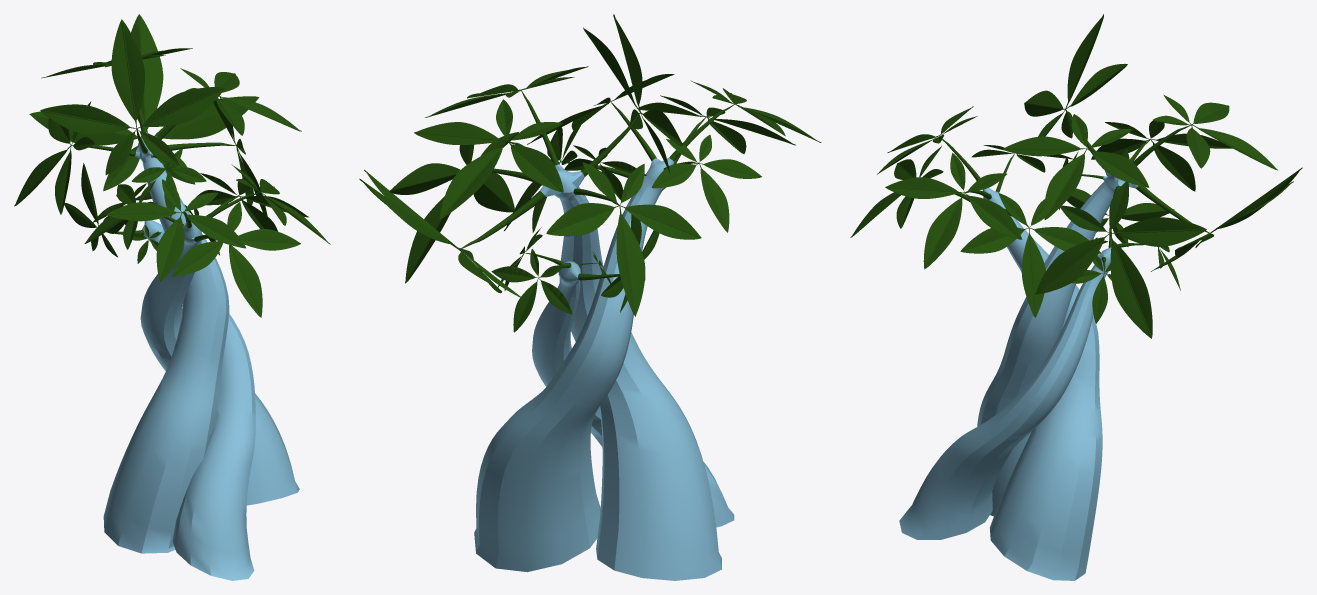
The model's file is MoneyTree.fbx.
3 renders of one model, left to right at view 1: azimuth 30°, elevation 25°; view 2: azimuth 150°, elevation 25°; view 3: azimuth 270°, elevation 25°, orthographic. The views are drawn at different scales.
Visible parts, largest first — view 1: Moneytree_1; view 2: Moneytree_1; view 3: Moneytree_1.
Boxes of the visible parts, <box> form: Moneytree_1: <box>14,14,330,580</box>; Moneytree_1: <box>359,14,821,580</box>; Moneytree_1: <box>850,14,1302,580</box>.
Bounding box in the file's own units: 24.36 × 45.58 × 36.97.
